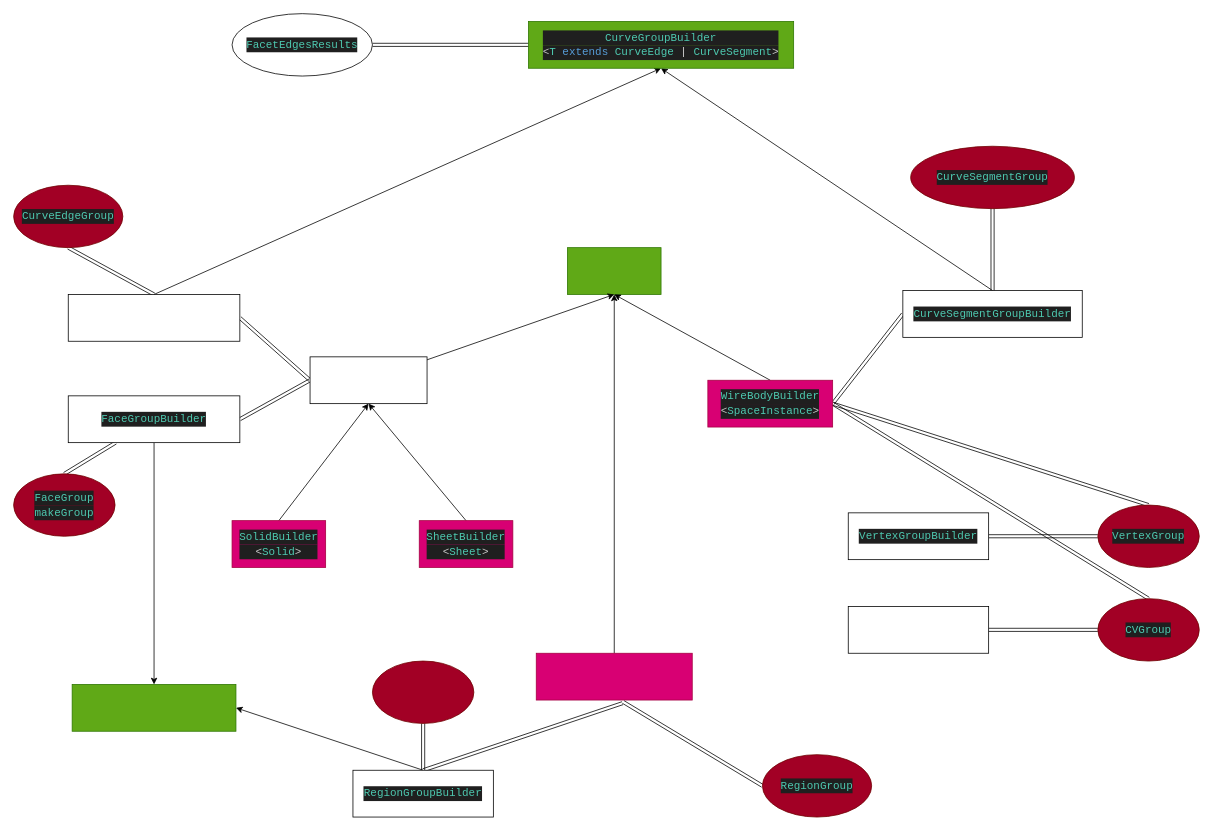
The diagram is 1213 pixels wide and 831 high, and some of its shapes have lost their labels. The centre of each missing label's shape, as x and y in pixels:
"AbstractFaceGroupBuilder < T extends Face | Region >" belongs at [153,707].
"Builder <T>" belongs at [614,270].
"CurveEdgeGroupBuilder" belongs at [153,317].
"CVGroupBuilder" belongs at [918,629].
"PlaneInstanceBuilder < SketchIsland >" belongs at [613,676].
"RegionGroup makeGroup" belongs at [423,691].
"ShellBuilder < T extends Shell >" belongs at [368,380].
